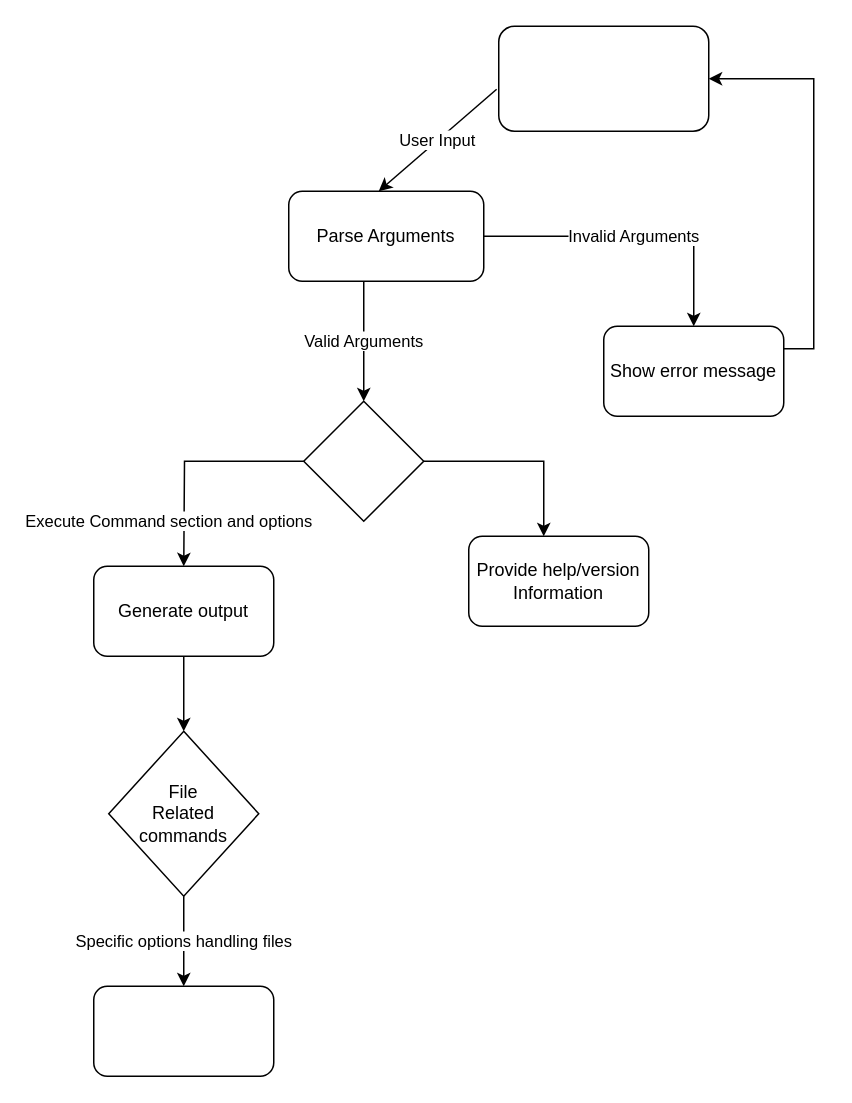
This 852x1103 diagram has some shape labels left out. The shapes that lost their labels are listed below. From the top down, each one's centre as x and y in pixels, then its label:
pixel 603 78: Start
pixel 363 460: Command Execution
pixel 183 1030: Perform File Operations
